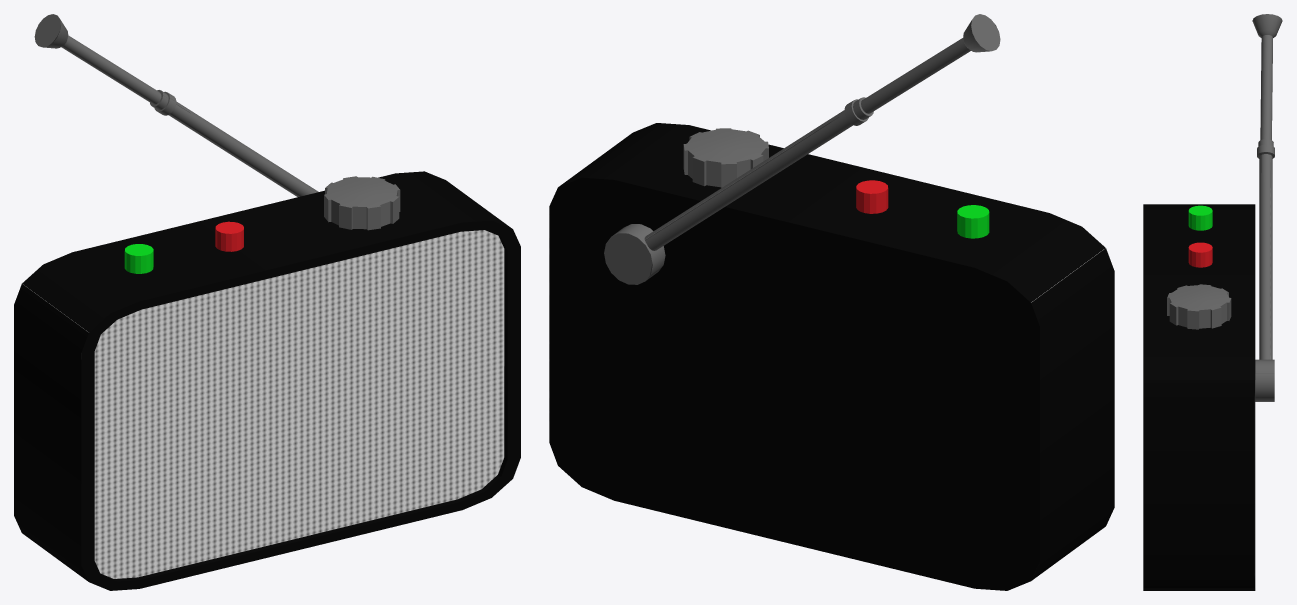
The model's file is MC_Radio.fbx.
3 views of the same model, side by side, from view 1: azimuth 30°, elevation 25°; view 2: azimuth 150°, elevation 25°; view 3: azimuth 270°, elevation 25° (orthographic). The views are drawn at different scales.
Parts seen in each view (by area): view 1: Circle.001, Circle.002, Circle.004, Circle.003; view 2: Circle.001, Circle.002, Circle.003, Circle.004; view 3: Circle.001, Circle.002, Circle.003, Circle.004.
Part boxes in pixels (bbox=[...]): Circle.001: bbox=[14, 14, 520, 590]; Circle.002: bbox=[324, 176, 400, 230]; Circle.004: bbox=[124, 244, 153, 273]; Circle.003: bbox=[215, 221, 243, 251]; Circle.001: bbox=[549, 14, 1114, 590]; Circle.002: bbox=[683, 128, 768, 187]; Circle.003: bbox=[856, 180, 888, 213]; Circle.004: bbox=[957, 205, 989, 238]; Circle.001: bbox=[1143, 14, 1282, 590]; Circle.002: bbox=[1167, 284, 1231, 329]; Circle.003: bbox=[1188, 242, 1212, 267]; Circle.004: bbox=[1188, 205, 1212, 230].
Size of the model in its own units: 320 by 362 by 105.
Materials: 4 (1 with a texture image).
